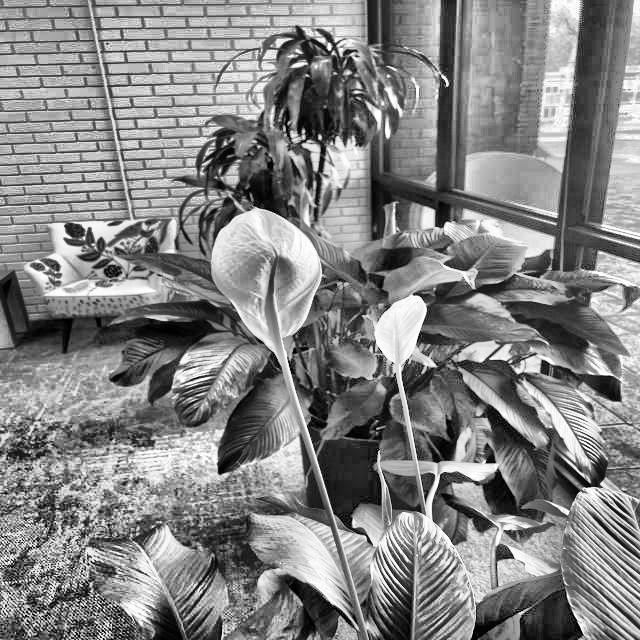plants: (307, 247, 594, 509), (240, 32, 408, 264)
